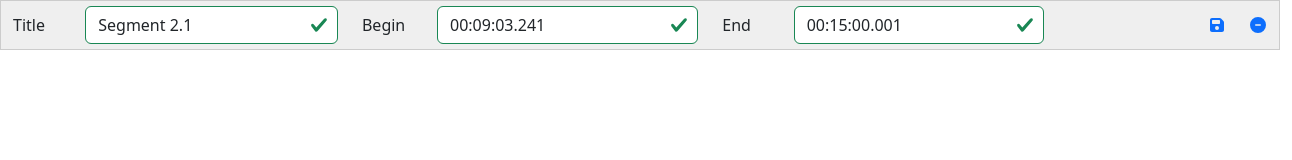
Test: TimespanInlineForm component › validates form › when title is changed by user input
Expected: the button with test id "inline-form-save-button" is enabled, [1197, 6, 1237, 44]
Replace the text in the field with test id "timespan-inline-form-title" with "a" at point(212, 25), box [85, 6, 338, 44]
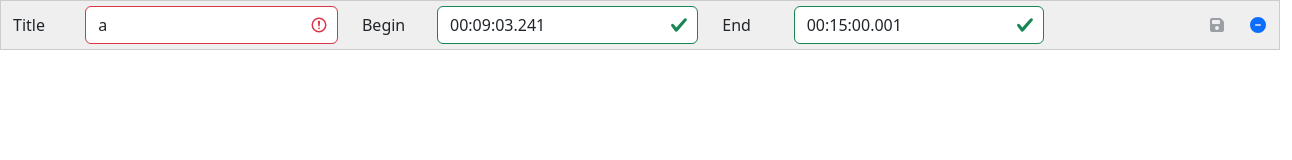
Result: the button with test id "inline-form-save-button" is disabled at [1197, 6, 1237, 44]
